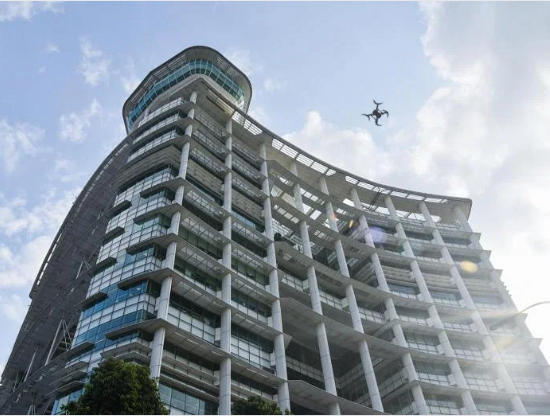drone_other: (362, 98, 393, 127)
